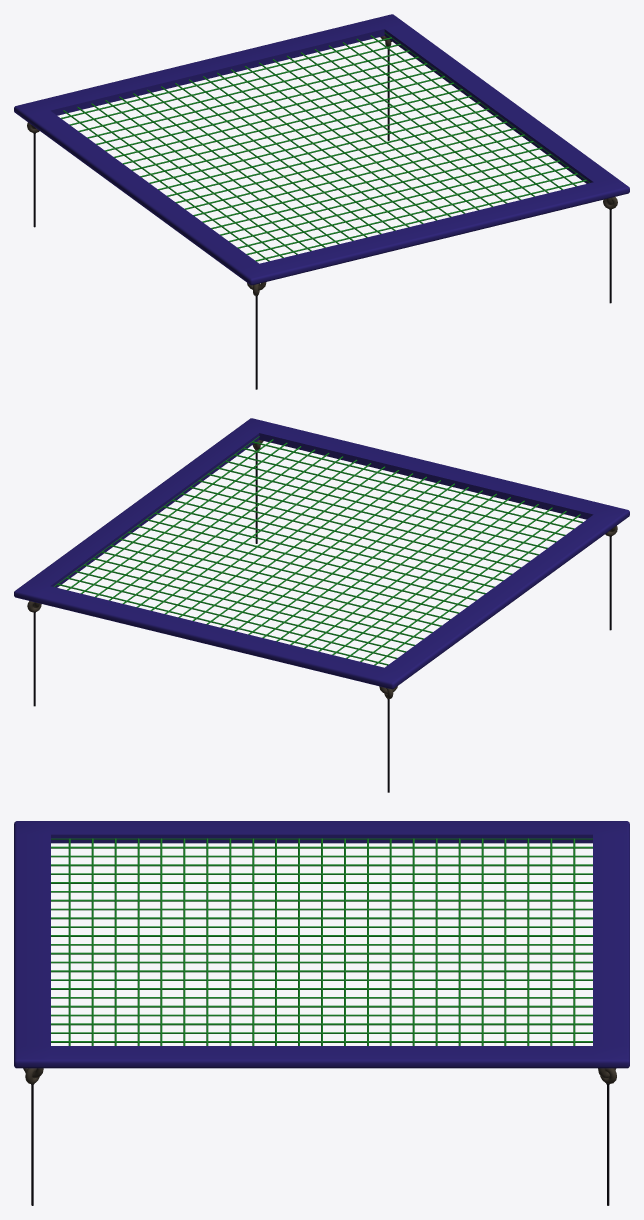
Rendered from flat sqaure coral nursery final .fbx.
3 views of the same model, one above another, from view 1: azimuth 30°, elevation 25°; view 2: azimuth 150°, elevation 25°; view 3: azimuth 270°, elevation 25° (orthographic). The views are drawn at different scales.
Visible parts, largest first — view 1: border, Cube_2; view 2: border, Cube_2; view 3: border, Cube_2.
Part boxes in pixels (<box>): border: <box>14,14,629,285</box>; Cube_2: <box>61,32,589,261</box>; border: <box>14,418,629,689</box>; Cube_2: <box>54,436,582,665</box>; border: <box>14,821,629,1068</box>; Cube_2: <box>51,838,592,1045</box>.
Size of the model in its own units: 569 by 169 by 616.
